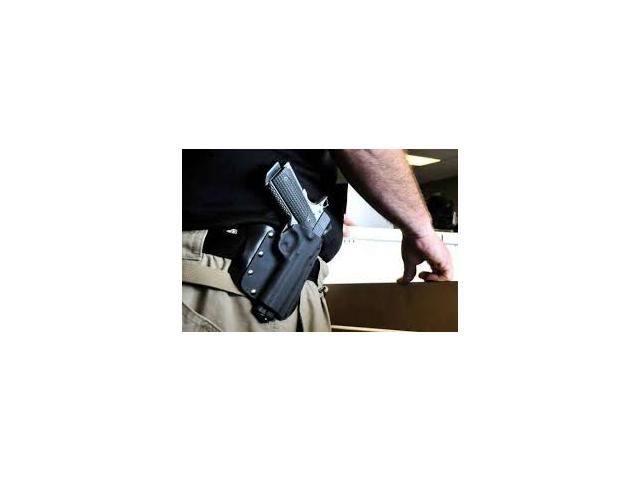pistol: (238, 159, 340, 323)
